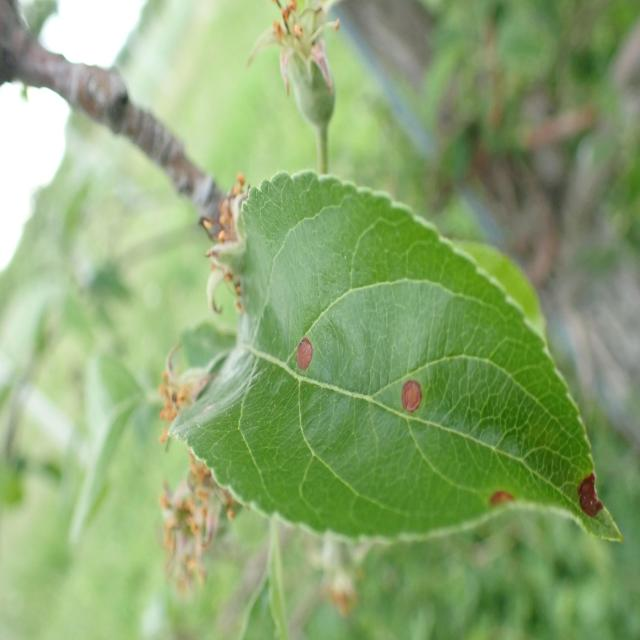frog-eye-leaf-spot: (161, 170, 622, 552)
